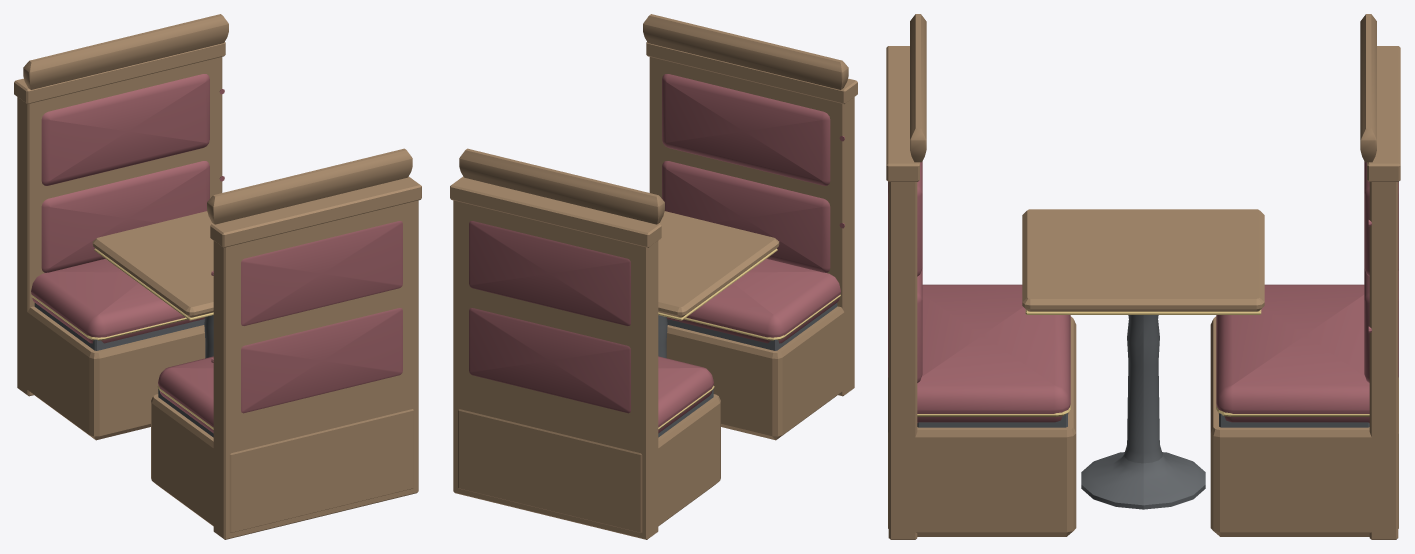
File: bar-pub-and-brewery-taproom-pub-booth-2-9eaf1d3d__18374.glb
The picture shows the model from 3 angles, left to right: view 1: azimuth 30°, elevation 25°; view 2: azimuth 150°, elevation 25°; view 3: azimuth 270°, elevation 25°; orthographic projection. The views are drawn at different scales.
Visible parts, largest first — view 1: pub-booth-2; view 2: pub-booth-2; view 3: pub-booth-2.
Boxes of the visible parts, box(x1,y1,x2,y2) form: pub-booth-2: box(14, 14, 421, 539); pub-booth-2: box(450, 14, 857, 539); pub-booth-2: box(886, 14, 1400, 539).
Size of the model in its own units: 0.84 by 1.35 by 1.53.
